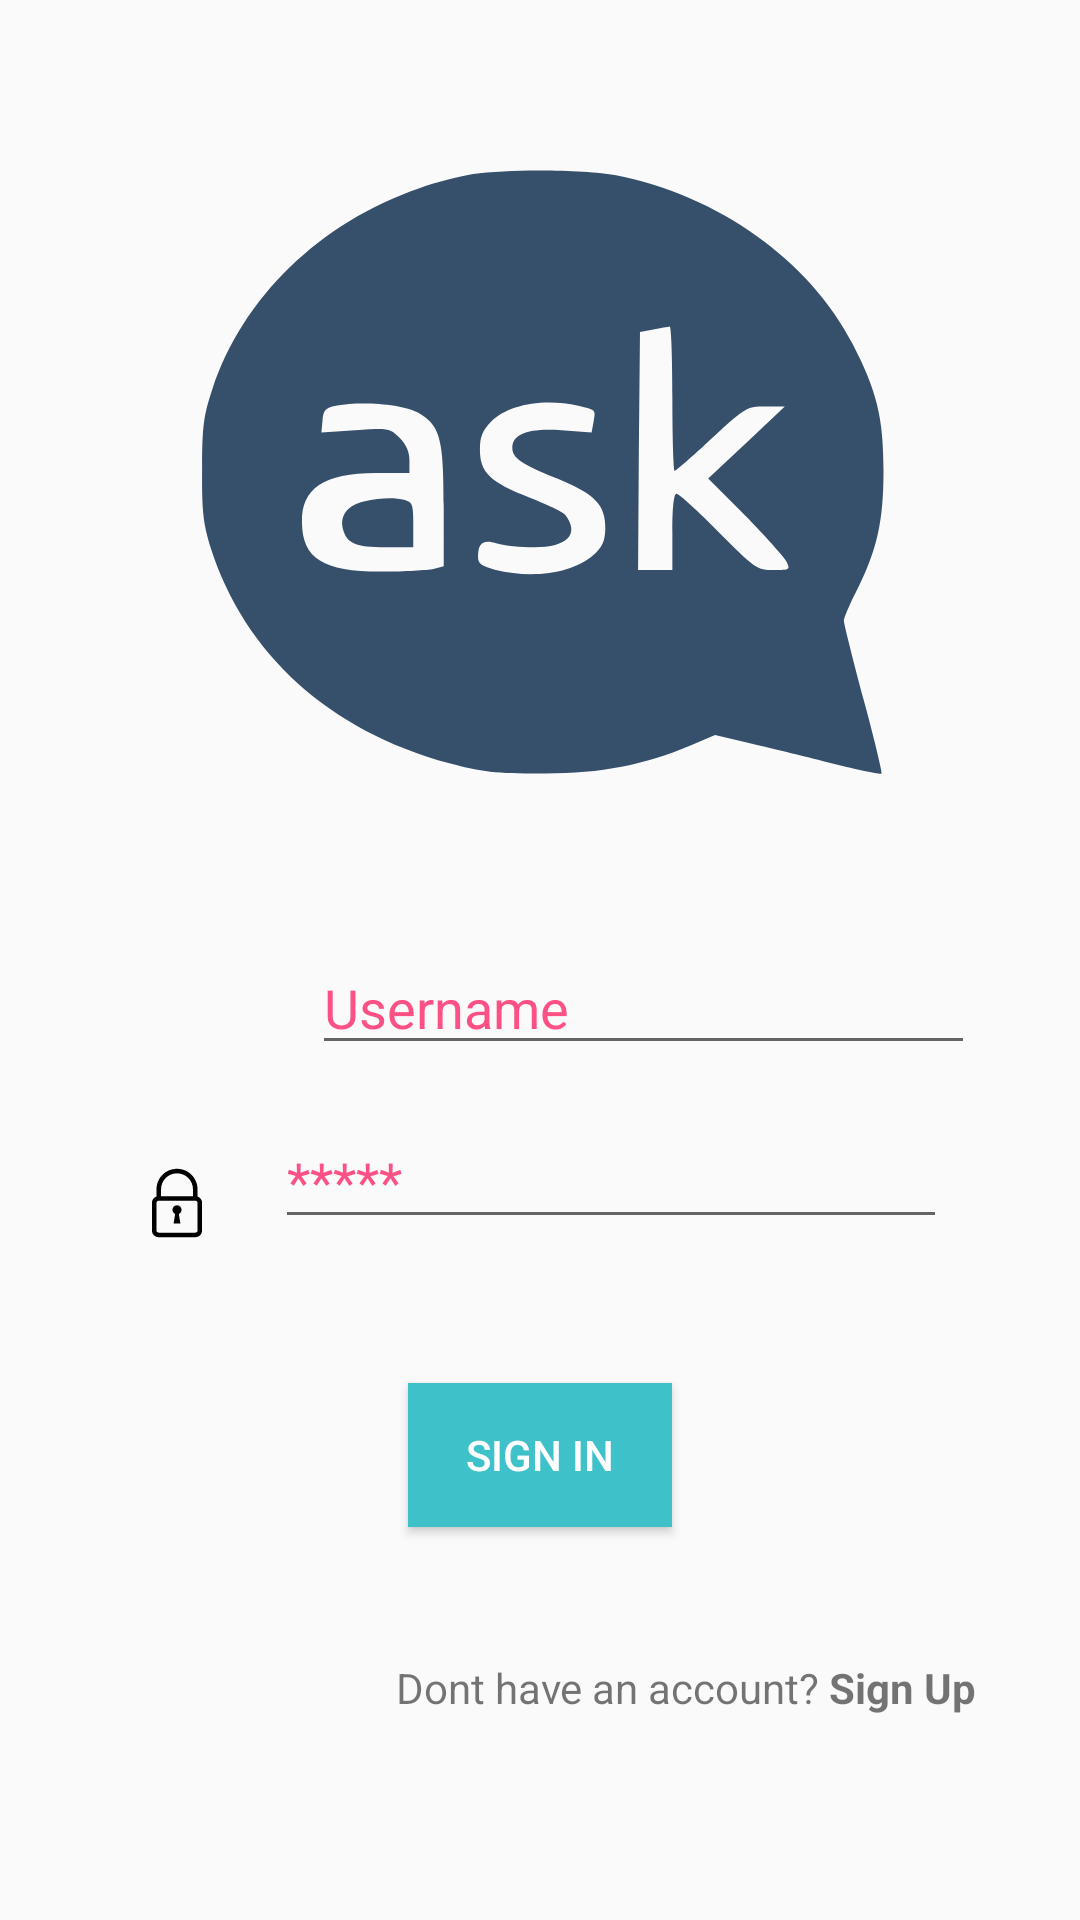

Screen size 1080w x 1920h. Icon name, then its box in pixels as (x1, y1, x2, y2):
ei lock: (152, 1168, 202, 1238)
